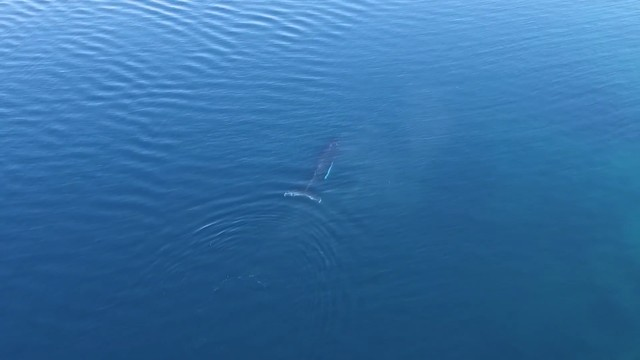whale: (280, 130, 346, 211)
